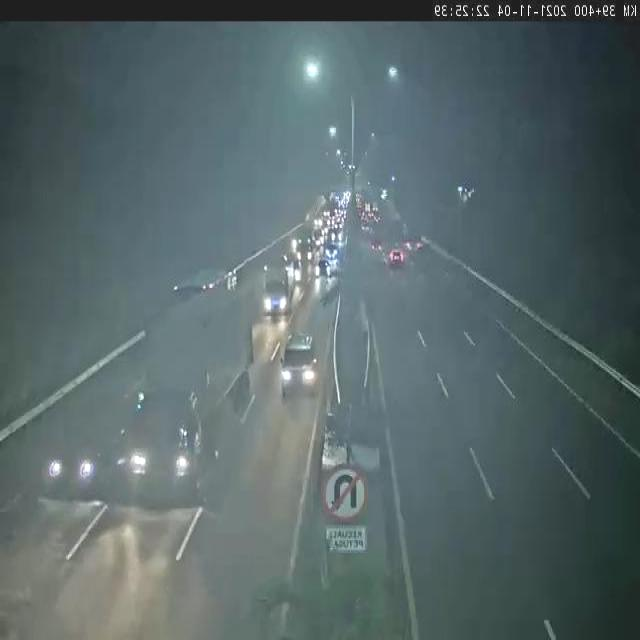Car: (38, 382, 116, 505), (272, 324, 330, 405), (384, 242, 412, 271), (313, 257, 335, 283)
Truck: (120, 286, 253, 509)
Van: (261, 260, 300, 324)
